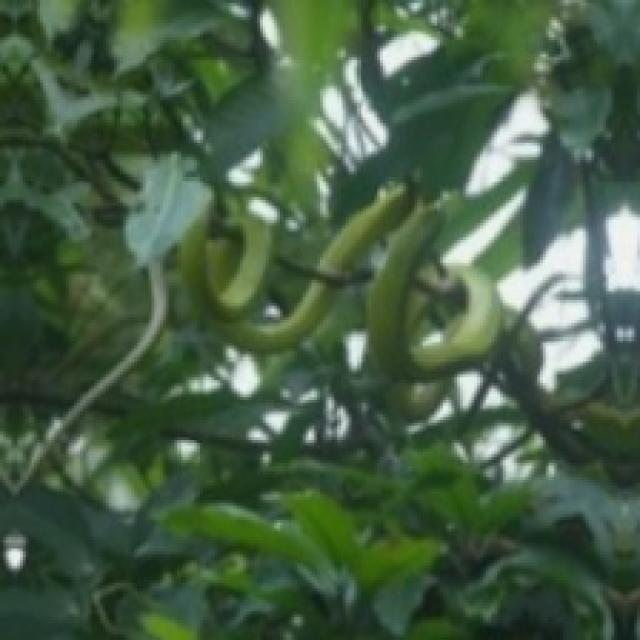red-tailed green ratsnake: (181, 186, 501, 379), (16, 258, 168, 491)
